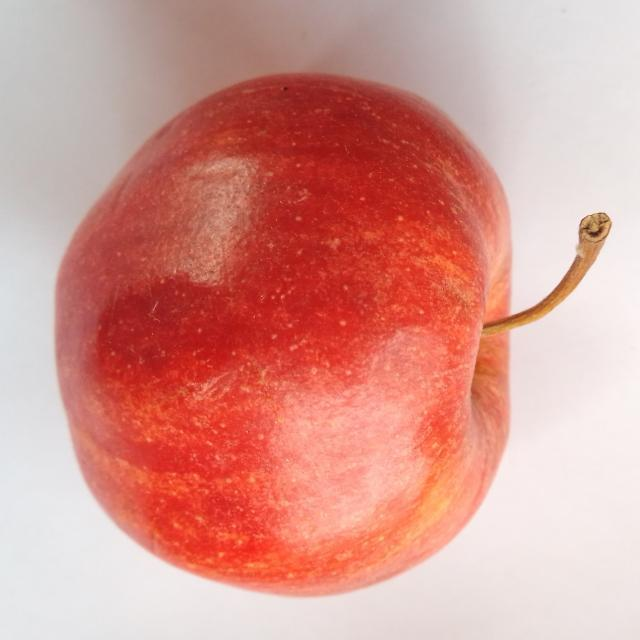Fresh Apple: (40, 62, 523, 598)
